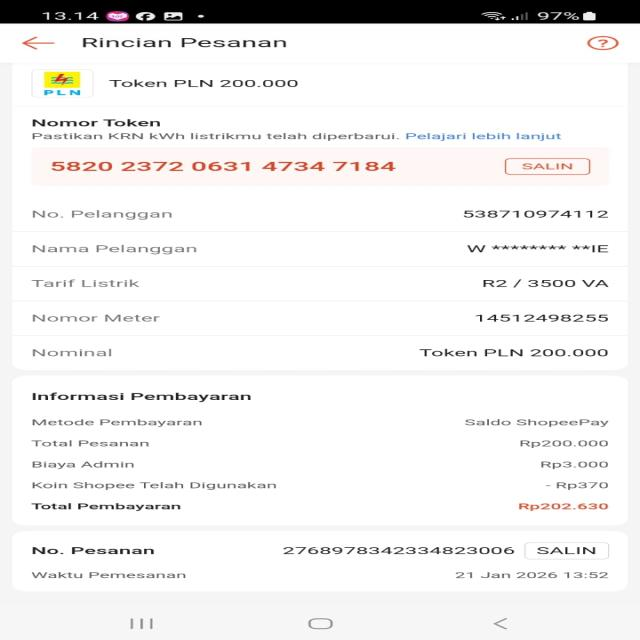date: (443, 568, 613, 584)
store: (104, 75, 310, 94)
total: (24, 501, 615, 514)
